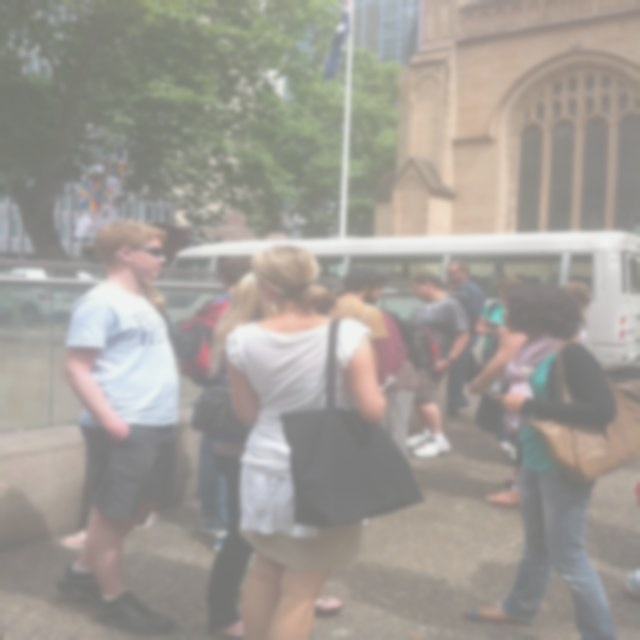pessoa: (456, 278, 640, 640), (226, 243, 386, 640), (48, 216, 195, 639), (188, 270, 347, 639), (62, 277, 174, 550), (194, 254, 255, 558), (328, 290, 438, 458), (404, 270, 472, 460), (468, 324, 533, 506), (328, 264, 394, 384), (441, 259, 488, 417), (473, 276, 524, 368), (558, 280, 593, 346), (311, 278, 337, 318)
